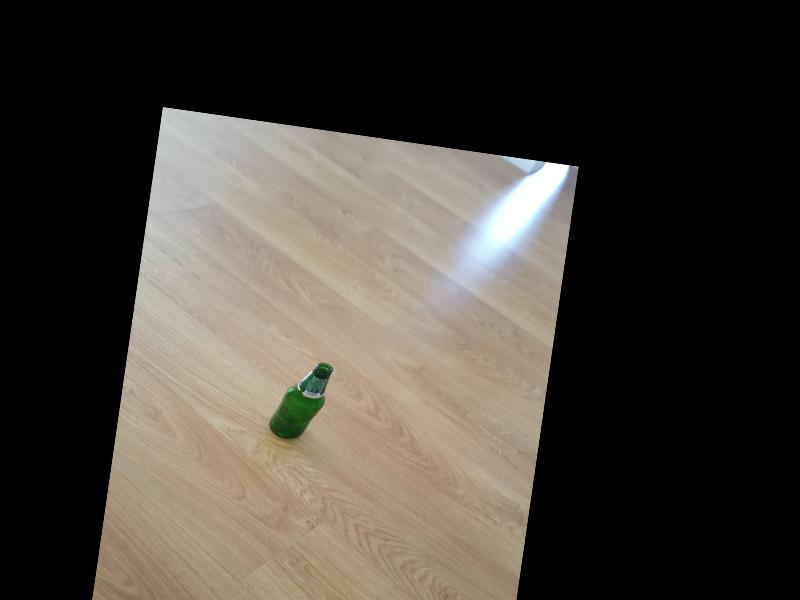Beer: (269, 358, 333, 443)
